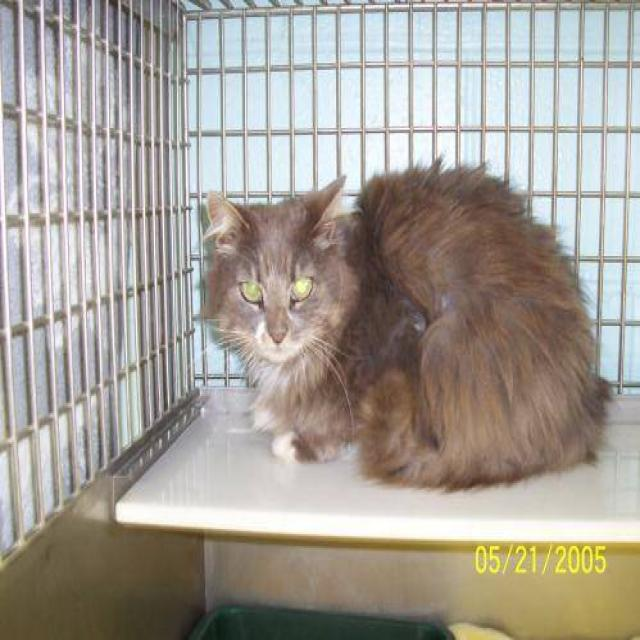cat: (200, 172, 362, 464)
